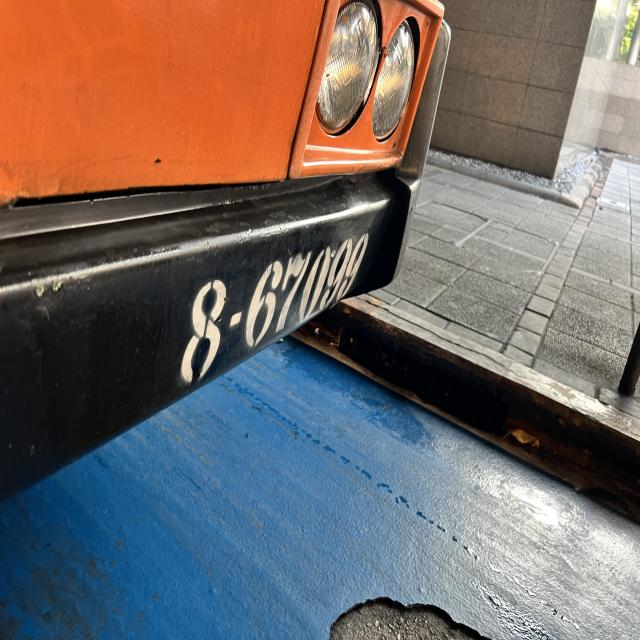BMTA-bus: (0, 0, 455, 510)
